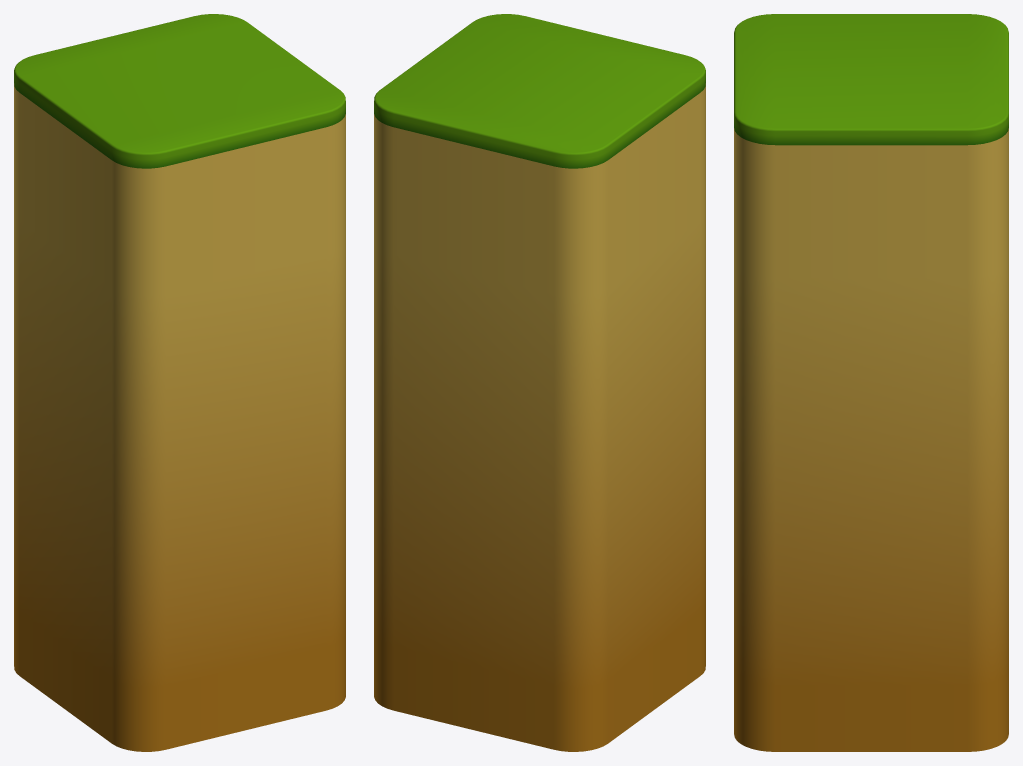
File: LM20RND.fbx
3 renders of one model, left to right at view 1: azimuth 30°, elevation 25°; view 2: azimuth 150°, elevation 25°; view 3: azimuth 270°, elevation 25°, orthographic. The views are drawn at different scales.
Visible parts, largest first — view 1: LOD0; view 2: LOD0; view 3: LOD0.
Part boxes in pixels (<box>): LOD0: <box>14,14,345,751</box>; LOD0: <box>374,14,705,751</box>; LOD0: <box>734,14,1008,751</box>.
Size of what is drawn, in the model's own units: 2000 by 2000 by 5000.
